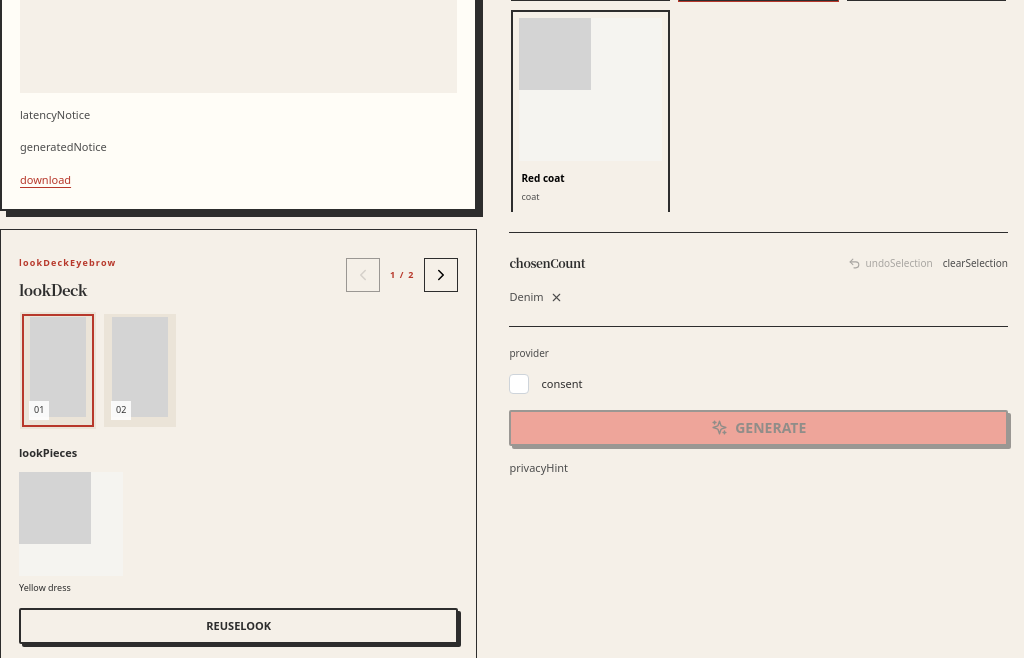
it: direct fitting room › switches photographic looks without changing garment choices and explicitly reuses an outfit
(page scrolled)
Click the button named "nextLook": x=442, y=275 [424, 258, 458, 292]
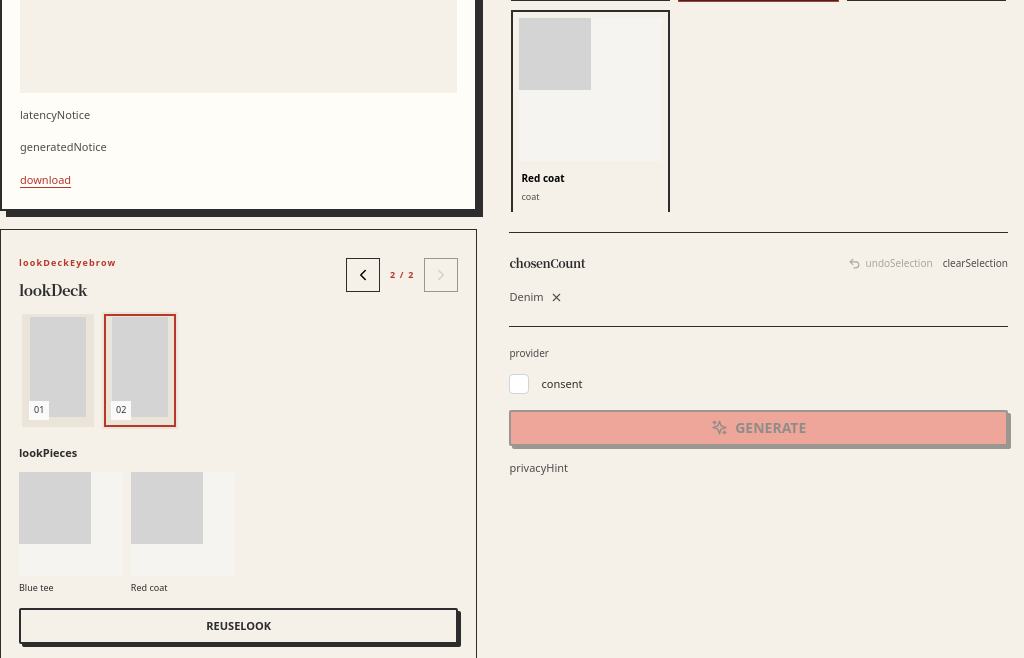
Check: the button with aria-label "removeItem Denim" is shown, box [510, 288, 563, 306]
Click the button "reuseLook": x=239, y=626 [19, 608, 458, 644]
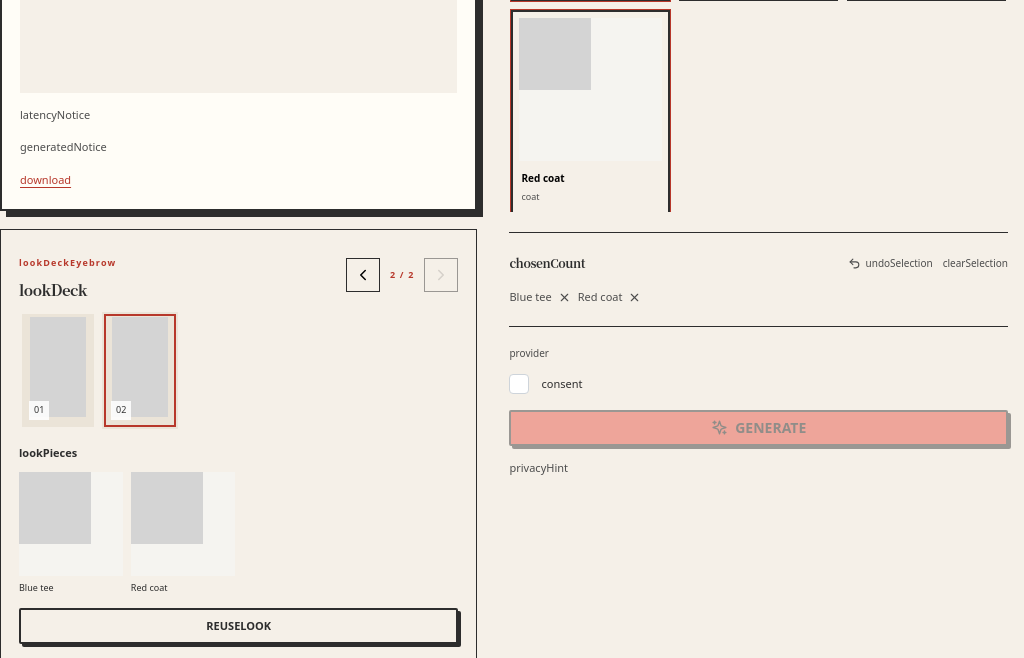
Check: the button with aria-label "removeItem Red coat" is shown, box [578, 288, 642, 306]
